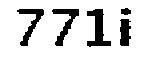1: (83, 5, 112, 50)
7: (49, 6, 82, 49), (15, 7, 47, 49)
i: (116, 5, 138, 48)
